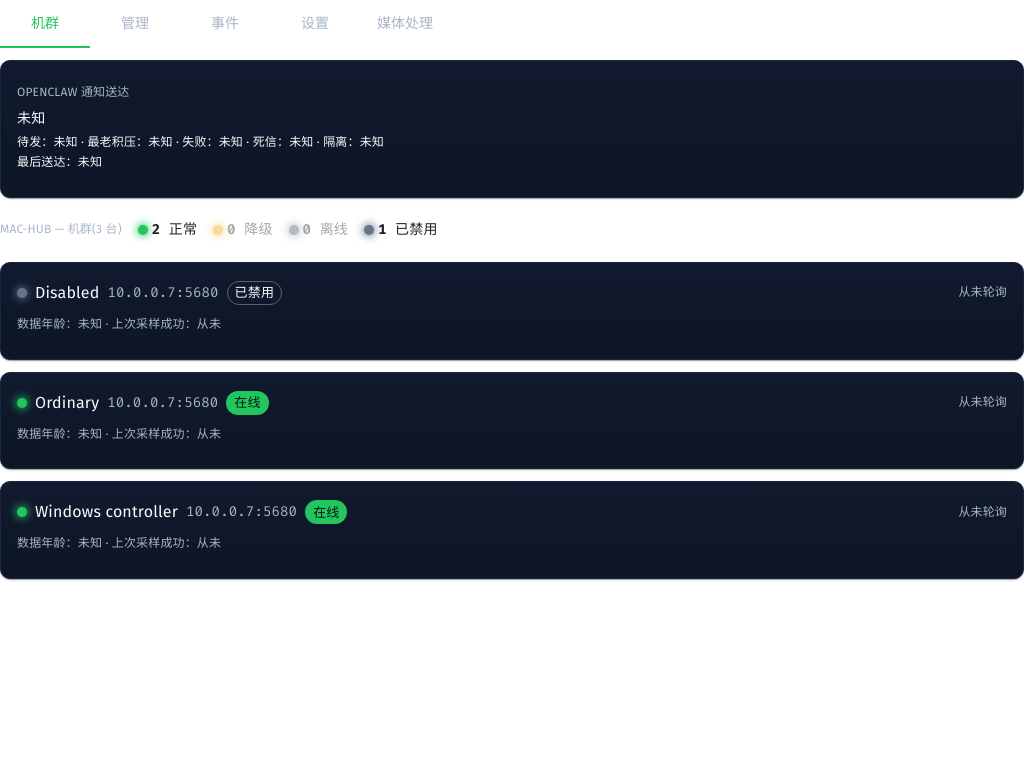
Test: #286 Hub media read-only workspace › discovers the enabled workflow source only when the Hub tab mounts
Expected: the text "MAC-HUB — 机群(3 台)" is shown, [0, 222, 122, 236]
Click the tab "媒体处理". click: point(405, 24)
box: [360, 0, 450, 48]
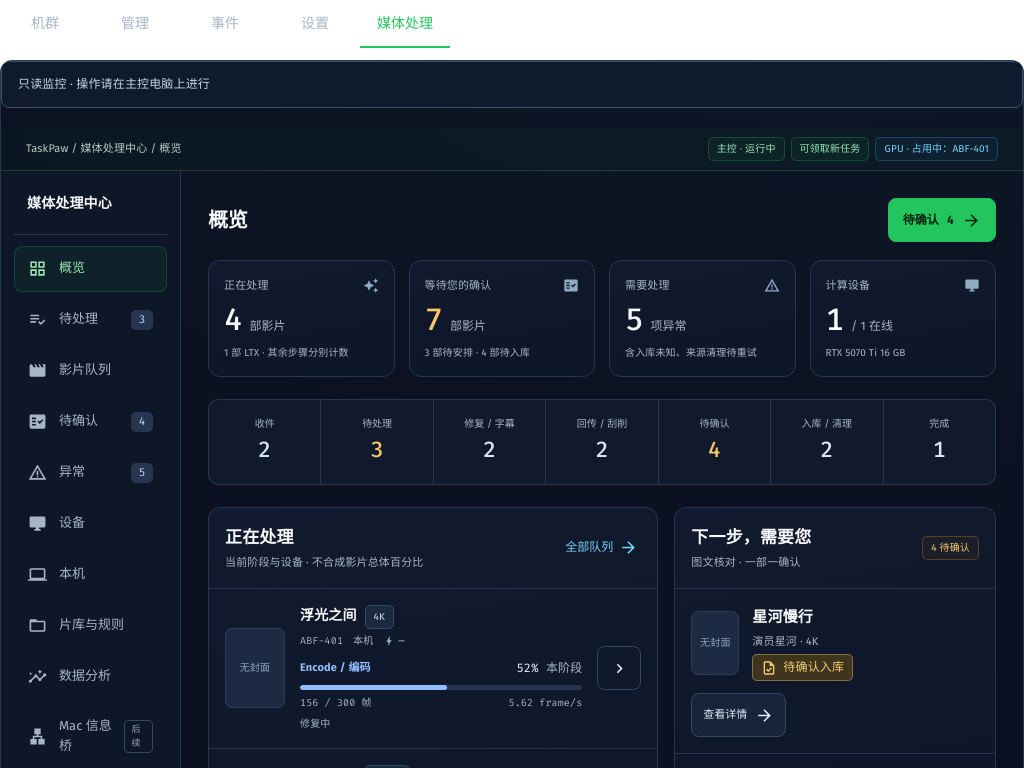
Expected: the heading "概览" is shown, [208, 206, 248, 234]
Expected: the text "只读监控 · 操作请在主控电脑上进行" is shown, [18, 75, 210, 94]
